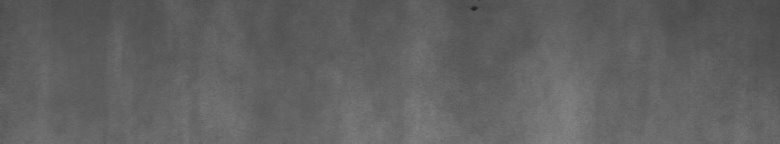fi: (470, 4, 479, 20)
